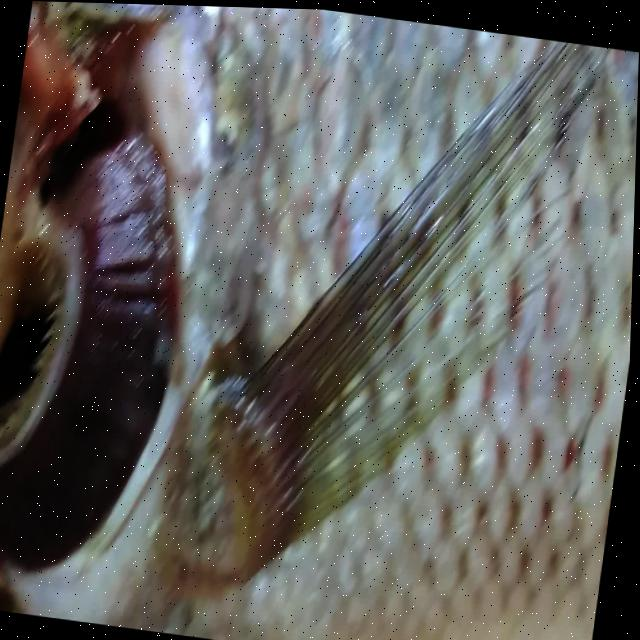Non-Fresh: (0, 114, 221, 589)
